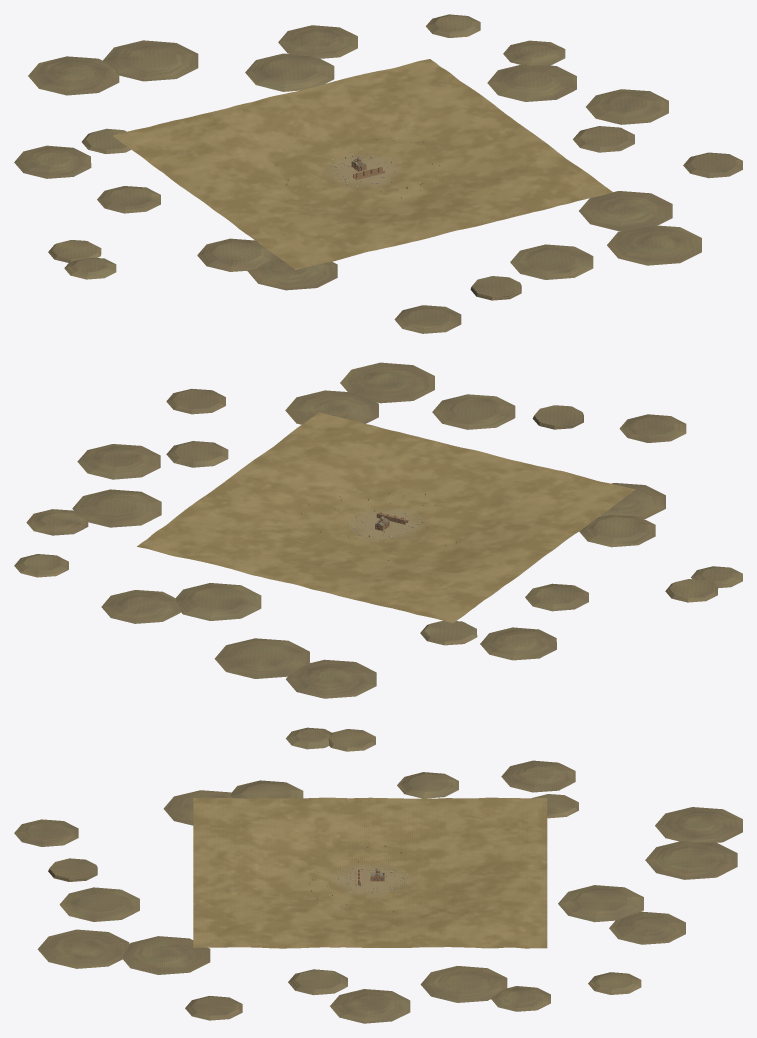
File: ani-katedrali-baked.glb
3 renders of one model, top to bottom at view 1: azimuth 30°, elevation 25°; view 2: azimuth 150°, elevation 25°; view 3: azimuth 270°, elevation 25°, orthographic. The views are drawn at different scales.
Visible parts, largest first — view 1: ani-katedrali-terrain, ani-katedrali-ground; view 2: ani-katedrali-terrain, ani-katedrali-ground; view 3: ani-katedrali-terrain, ani-katedrali-ground.
Part boxes in pixels (x1,y1,x2,y2): ani-katedrali-terrain: (113,59,612,269); ani-katedrali-ground: (14,14,742,333); ani-katedrali-terrain: (137,412,635,623); ani-katedrali-ground: (14,362,742,698); ani-katedrali-terrain: (193,797,547,948); ani-katedrali-ground: (14,727,742,1023).
Size of the model in its own units: 1740 by 36.46 by 1811.
Materials: 18 (14 with a texture image).
